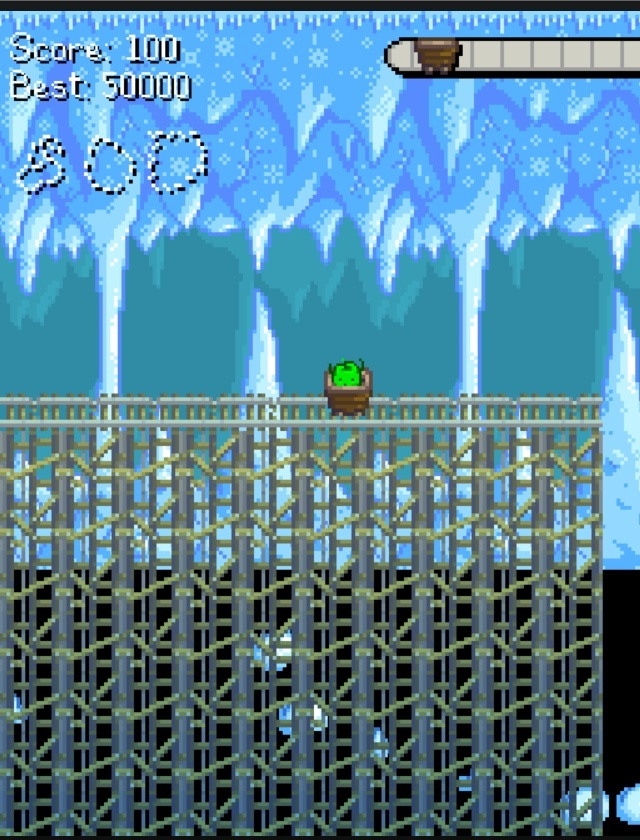minecart: (324, 360, 371, 415)
score: (121, 29, 186, 68)
tracks: (0, 381, 320, 433)
